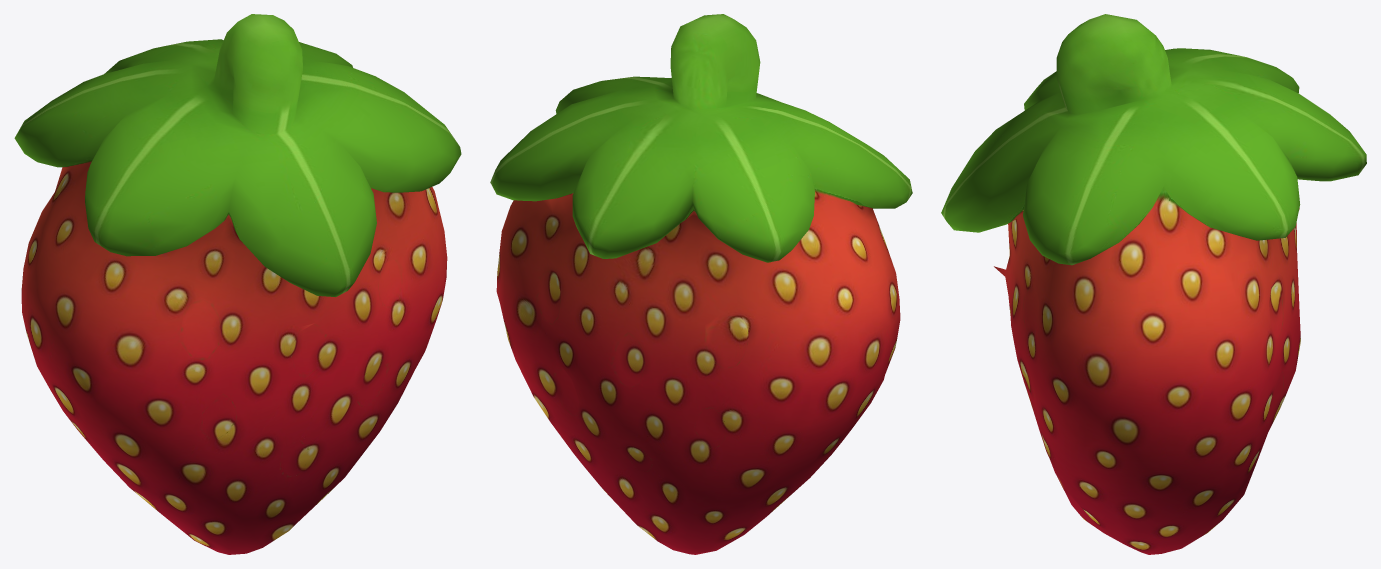
The model's file is berry.glb.
3 renders of one model, left to right at view 1: azimuth 30°, elevation 25°; view 2: azimuth 150°, elevation 25°; view 3: azimuth 270°, elevation 25°, orthographic. The views are drawn at different scales.
Parts seen in each view (by area): view 1: tripo_node_ccbc73ae-ce9a-4d5d-944b-fc146adf31db; view 2: tripo_node_ccbc73ae-ce9a-4d5d-944b-fc146adf31db; view 3: tripo_node_ccbc73ae-ce9a-4d5d-944b-fc146adf31db.
Boxes of the visible parts, left/top/right/bottom form: tripo_node_ccbc73ae-ce9a-4d5d-944b-fc146adf31db: left=14, top=14, right=461, bottom=554; tripo_node_ccbc73ae-ce9a-4d5d-944b-fc146adf31db: left=490, top=14, right=912, bottom=554; tripo_node_ccbc73ae-ce9a-4d5d-944b-fc146adf31db: left=941, top=14, right=1366, bottom=554.
Bounding box in the file's own units: 0.7318 × 0.9806 × 0.7073.
Materials: 1 (1 with a texture image).
